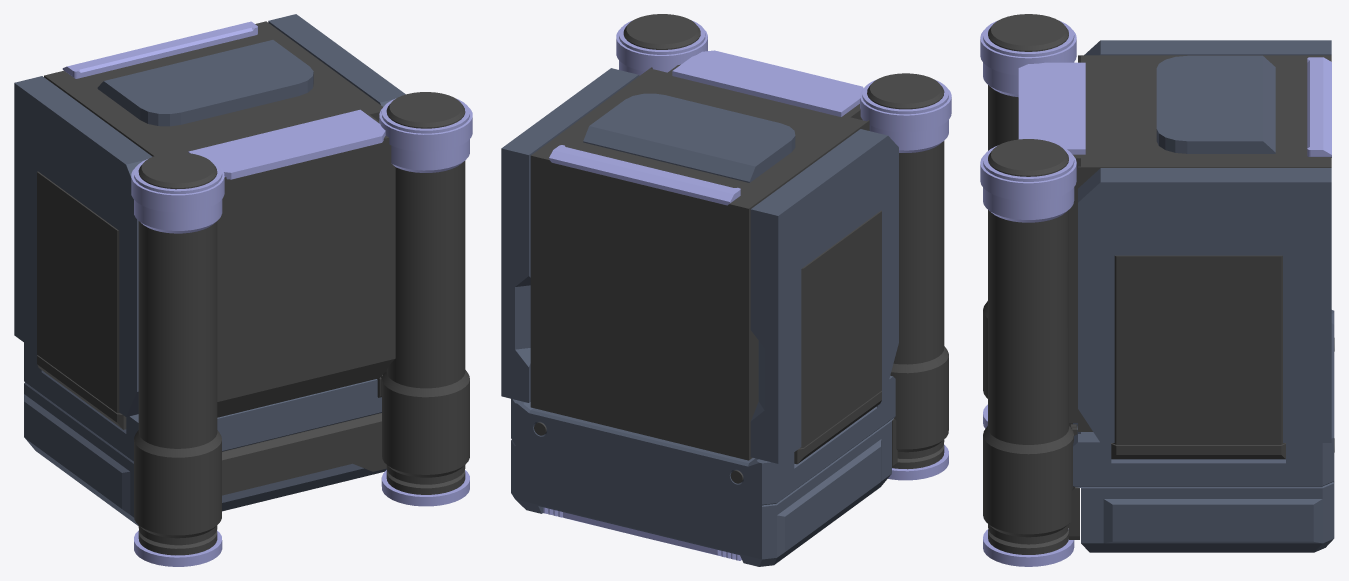
Rendered from Quad Crate.glb.
3 views of the same model, side by side, from view 1: azimuth 30°, elevation 25°; view 2: azimuth 150°, elevation 25°; view 3: azimuth 270°, elevation 25° (orthographic). The views are drawn at different scales.
Parts seen in each view (by area): view 1: Quad Crate; view 2: Quad Crate; view 3: Quad Crate.
Boxes of the visible parts, box(x1,y1,x2,y2) form: Quad Crate: box(14, 14, 472, 566); Quad Crate: box(501, 14, 951, 566); Quad Crate: box(980, 14, 1334, 566).
Bounding box in the file's own units: 2.75 × 3.06 × 2.48.
